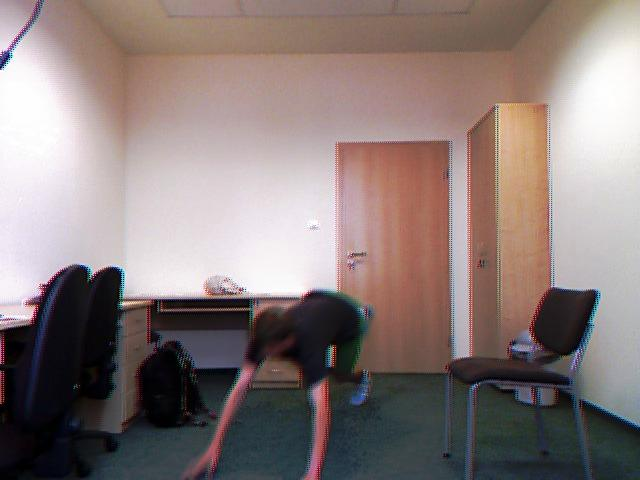near-fall: (180, 287, 397, 480)
